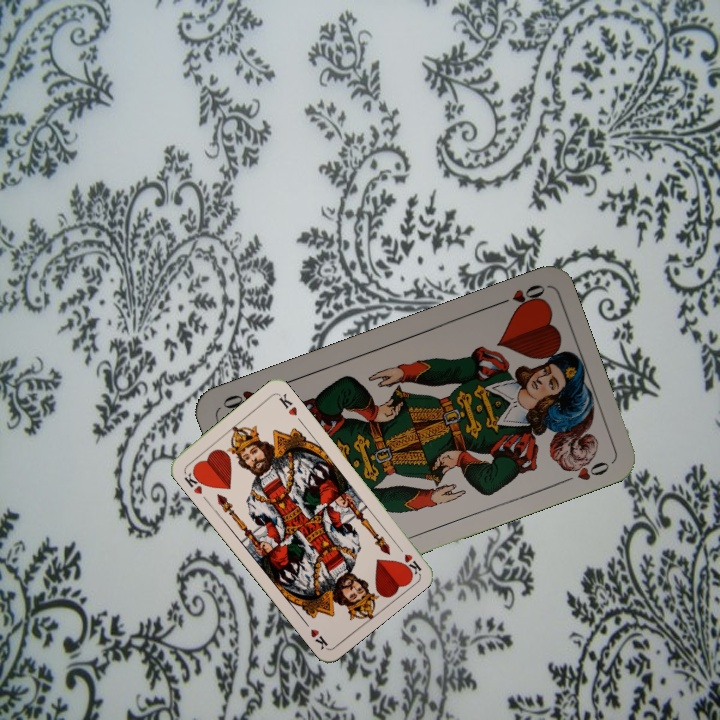HK: (392, 539, 424, 576), (180, 466, 208, 497)
HO: (490, 280, 548, 313)
